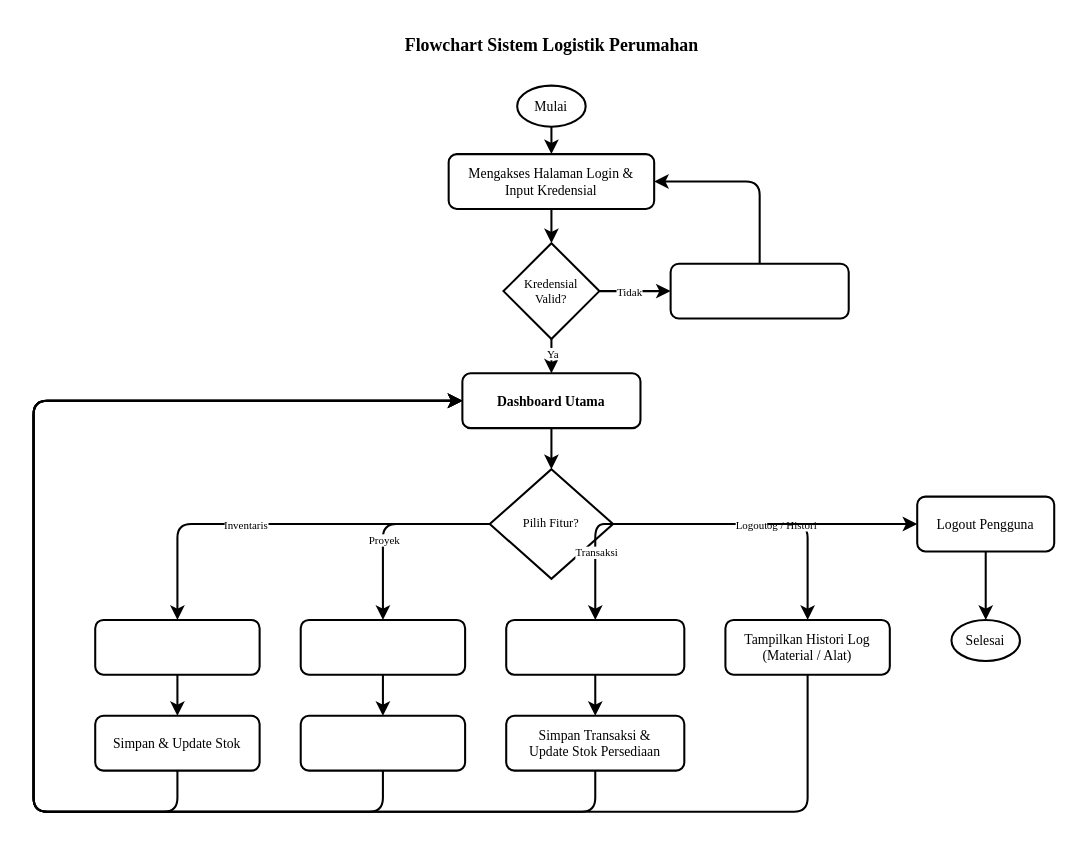
The diagram is 1080 pixels wide and 847 high, and some of its shapes have lost their labels. Here are the shapes that lost their labels. From the top down, the centre of each, then its label:
At (x=759, y=290): "Menampilkan Eror Kredensial".
At (x=177, y=646): "Input Data Inventaris (Material / Alat)".
At (x=382, y=646): "Input Data Proyek Rumah".
At (x=595, y=646): "Input Transaksi Logistik (Penggunaan / Pinjam / Kembali)".
At (x=382, y=742): "Simpan Kavling/Tipe Baru".
